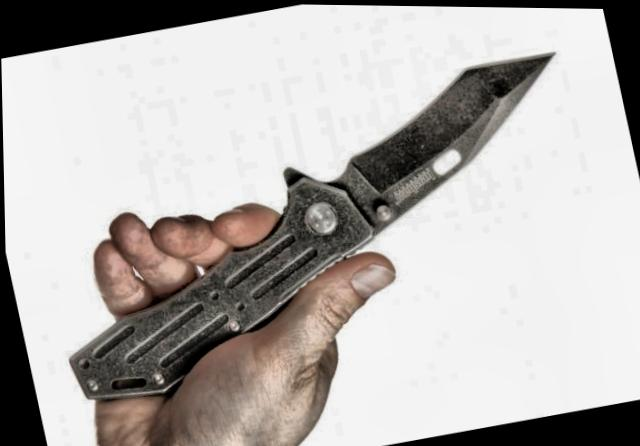knife: (160, 24, 621, 362)
